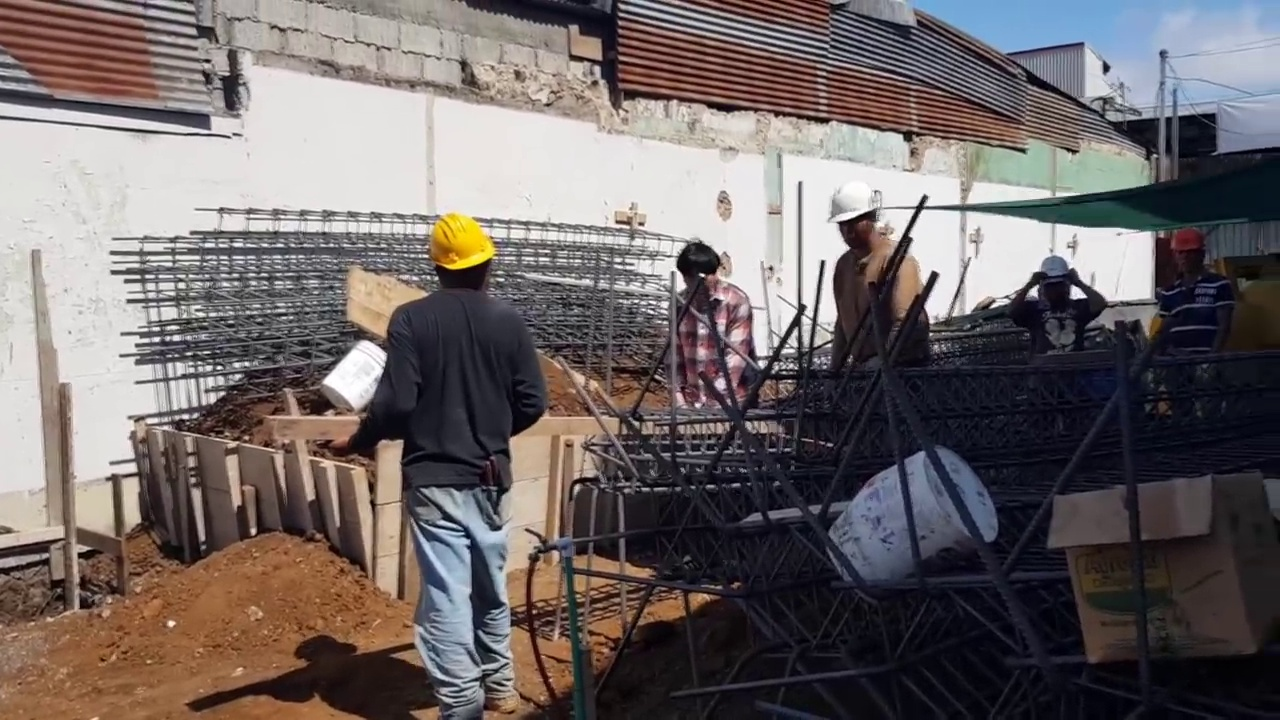helmet: (419, 214, 496, 280), (826, 188, 878, 226), (1035, 258, 1081, 279), (1170, 229, 1204, 253)
helmet-off: (672, 243, 724, 304)
helmet-on: (418, 206, 501, 298), (831, 187, 900, 259), (1033, 255, 1081, 299), (1169, 229, 1205, 278)
person: (321, 202, 551, 710), (813, 177, 937, 377), (663, 243, 761, 420), (1148, 226, 1233, 392), (1016, 256, 1107, 358)
